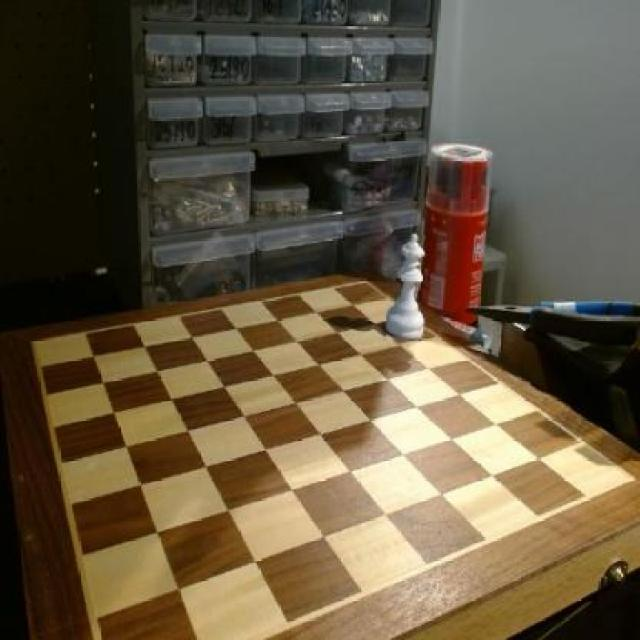white-pawn: (388, 234, 432, 348)
